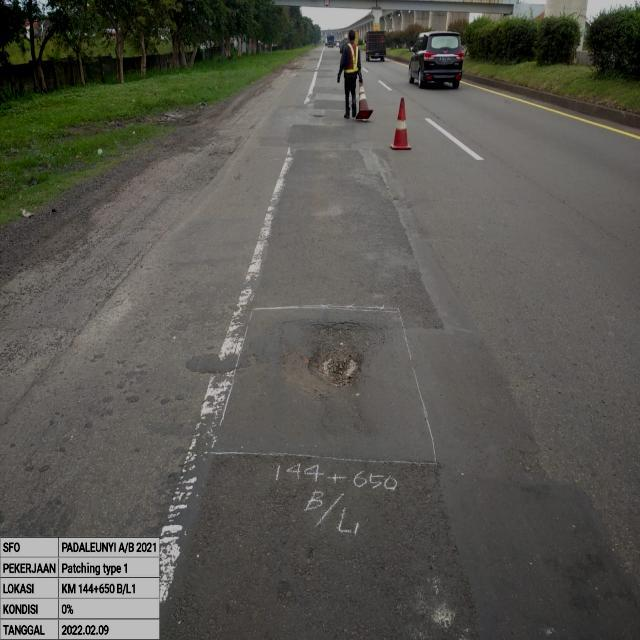Buraco: (304, 335, 367, 390), (310, 113, 328, 120)
